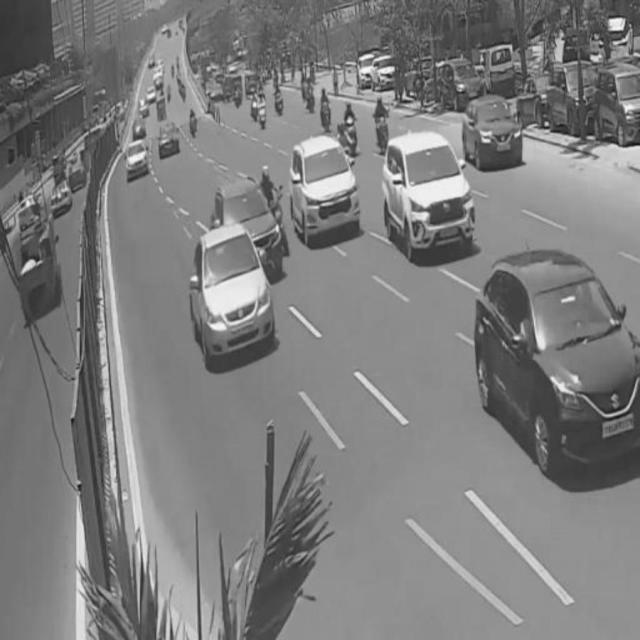accident: (213, 166, 294, 288)
vehicle: (476, 246, 640, 483), (382, 125, 475, 259), (190, 236, 272, 364), (289, 143, 361, 241), (463, 93, 524, 169), (14, 222, 61, 310), (545, 63, 596, 135), (596, 63, 638, 141), (372, 96, 390, 160), (343, 104, 363, 156), (124, 139, 150, 177)
